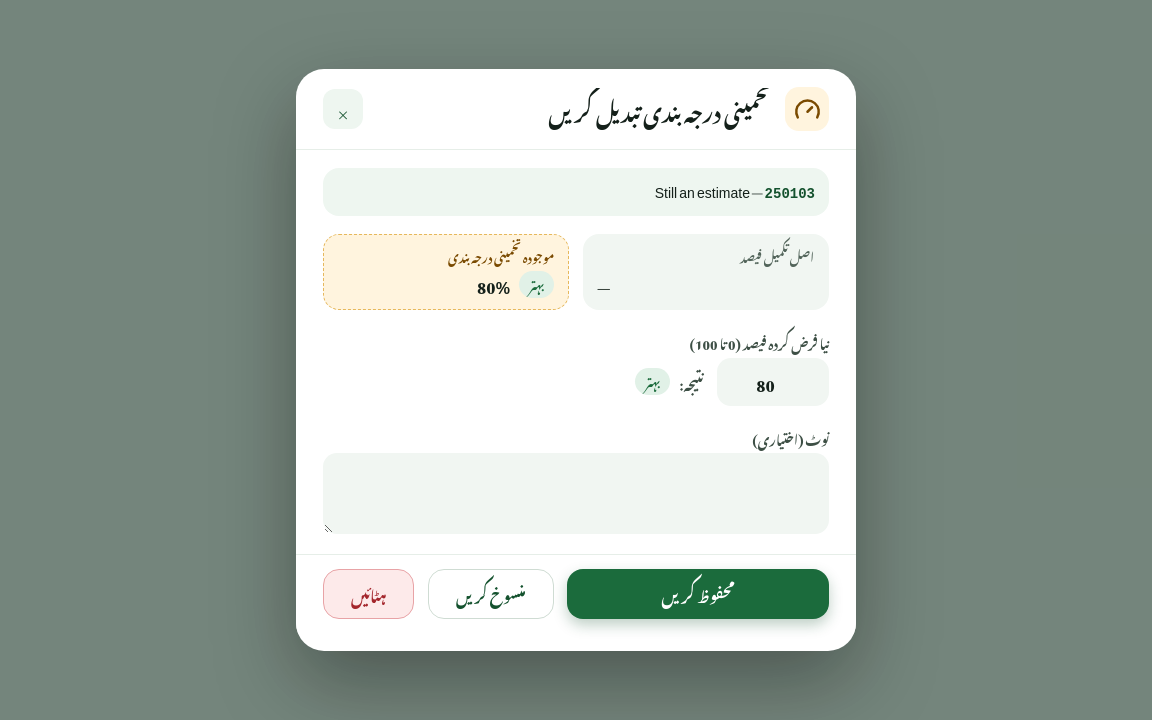
saving: the confirmation that the new value is final › "محفوظ کریں" asks first — the amber redesign confirmation with the approved words — and sends nothing yet
The width and height of the screenshot is (1152, 720).
Replace the text in the number field labelled "نیا فرض کردہ فیصد (0 تا 100)" with "95": coordinates (773, 382) 717,358 -> 829,406
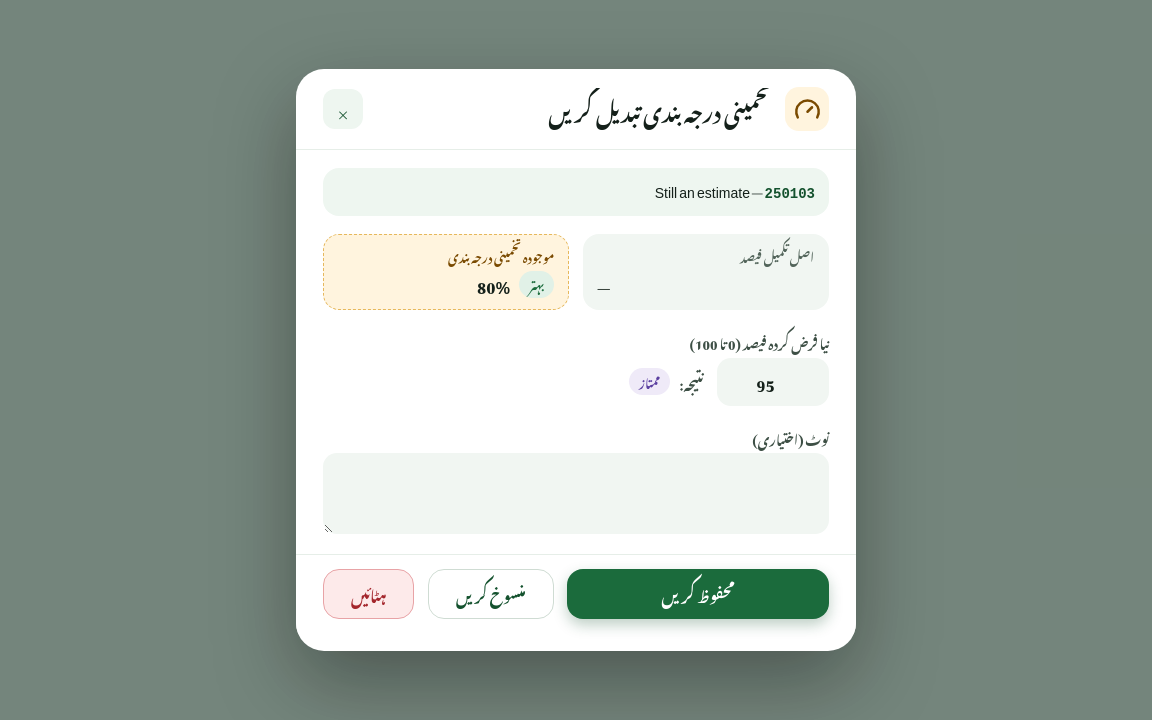
Click the button "محفوظ کریں": coordinates (698, 594) 567,569 -> 829,619
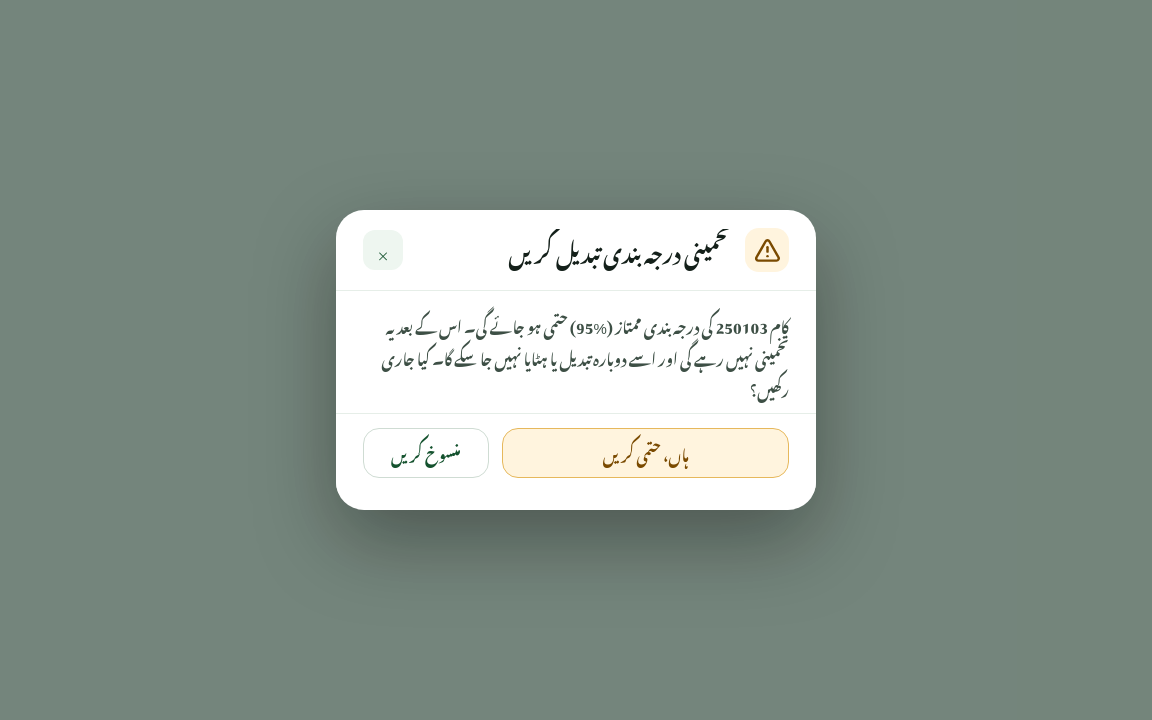
Expected: the button "منسوخ کریں" is shown, 363,428 -> 489,478
Now the element that starts with "کام" shows "کام 250103 کی درجہ بندی ممتاز (95%) حتمی ہو جائے گی۔ اس کے بعد یہ تخمینی نہیں رہے گی اور اسے دوبارہ تبدیل یا ہٹایا نہیں جا سکے گا۔ کیا جاری رکھیں؟", box 363,309 -> 789,413
